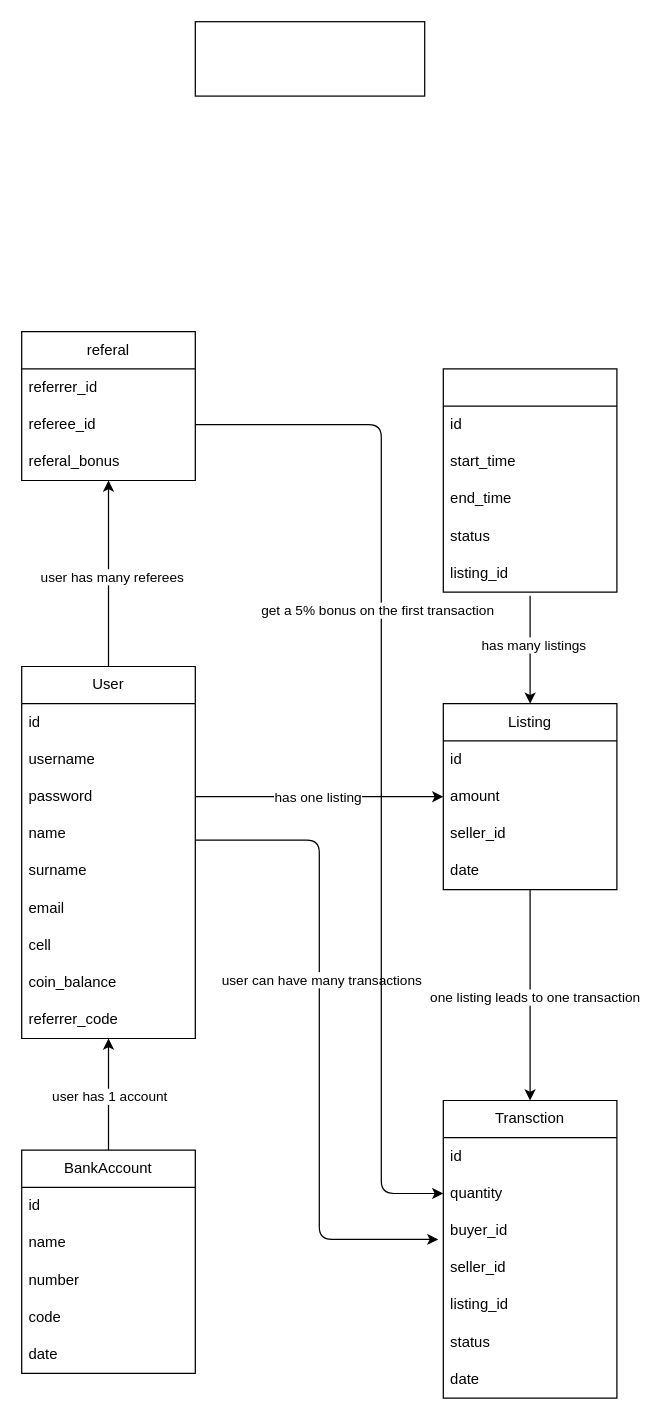
Some shapes in this 661 by 1420 pixel diagram are drawn without their labels. The box of each missing label's shape, as (x1, y1, x2, y2) in pixels:
Auction: (442, 368, 617, 592)
Coin Auction ERD: (194, 20, 425, 96)
